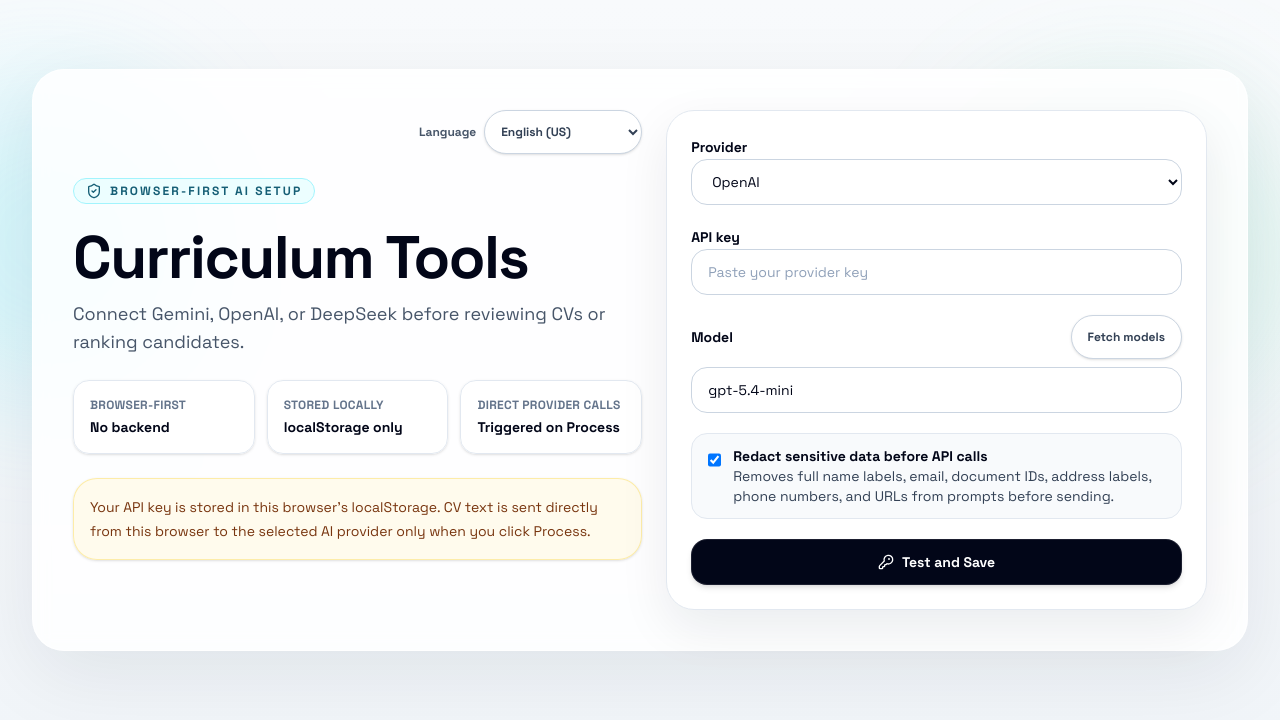
Test case: App › validates key before fetching models for key-required providers
The image size is (1280, 720).
Select "OpenAI" in the dropdown labelled "Provider": (937, 182) top-left (691, 159), bottom-right (1182, 205)
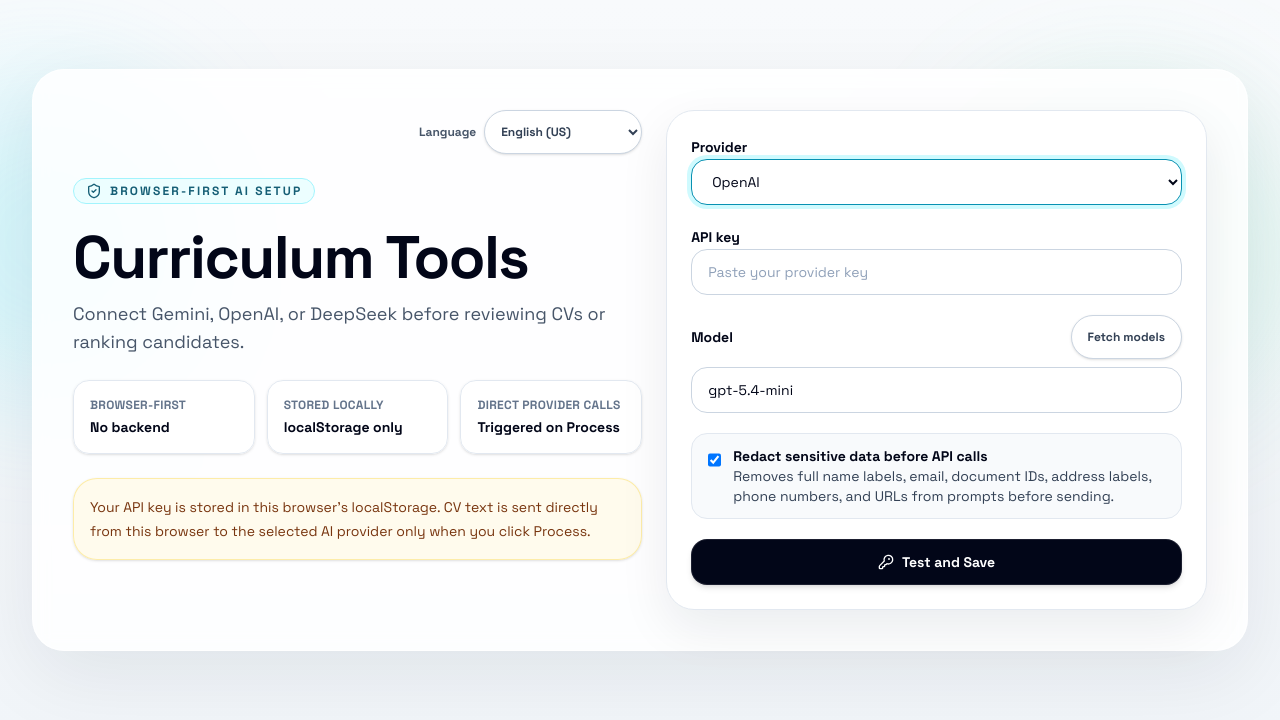
Click the button "Fetch models": (1126, 337) top-left (1070, 315), bottom-right (1182, 359)
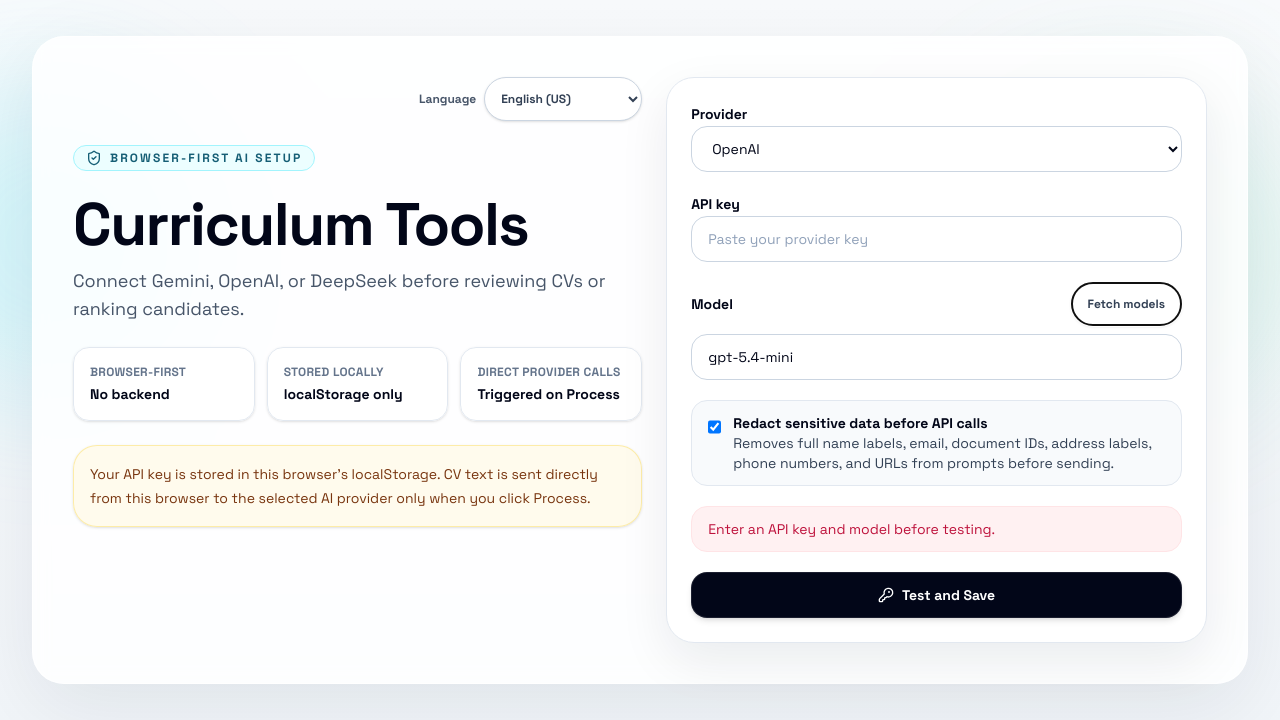
Expected: the text "Enter an API key and model before testing." is shown, top-left (691, 506), bottom-right (1182, 552)
